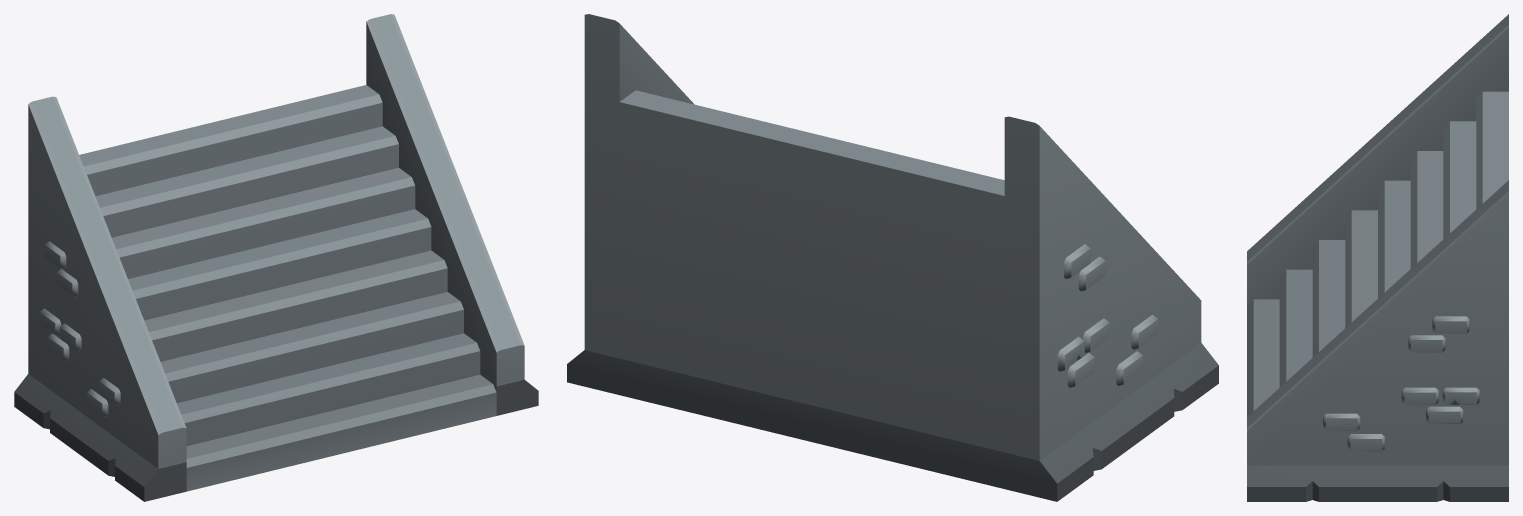
Rendered from stairs_wide.gltf.
3 renders of one model, left to right at view 1: azimuth 30°, elevation 25°; view 2: azimuth 150°, elevation 25°; view 3: azimuth 270°, elevation 25°, orthographic. The views are drawn at different scales.
Parts seen in each view (by area): view 1: stairs_wide; view 2: stairs_wide; view 3: stairs_wide.
Boxes of the visible parts, left/top/right/bottom form: stairs_wide: left=14, top=14, right=538, bottom=501; stairs_wide: left=567, top=14, right=1218, bottom=501; stairs_wide: left=1247, top=14, right=1508, bottom=501.
Size of the model in its own units: 7 by 5.1 by 4.
Materials: 1 (1 with a texture image).
